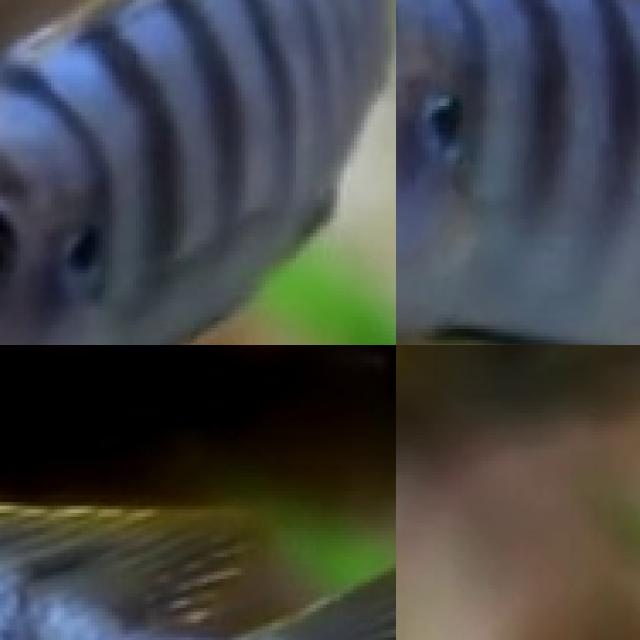fish: (0, 0, 396, 345), (396, 0, 640, 345), (396, 345, 640, 442)
